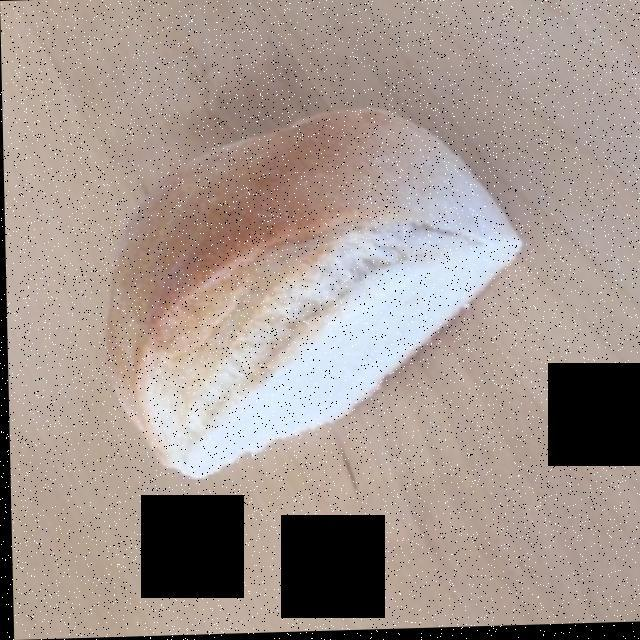bread: (107, 119, 512, 470)
